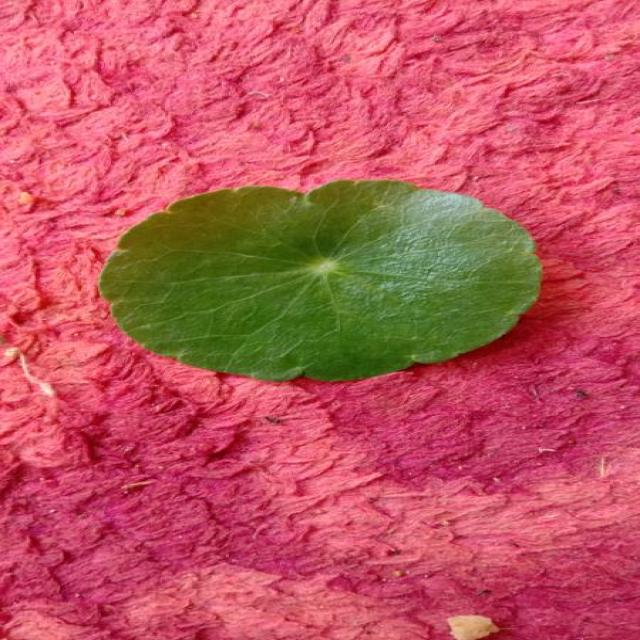bhrami: (100, 180, 540, 380)
